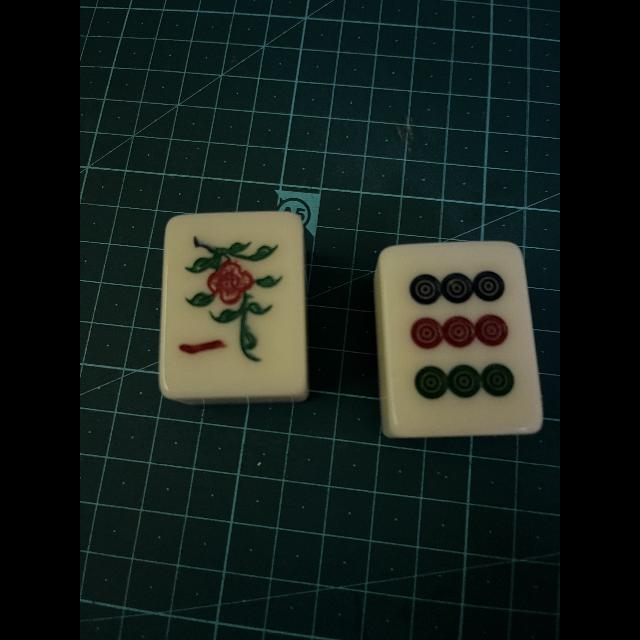d9: (387, 245, 537, 432)
s1-s: (164, 216, 304, 394)
